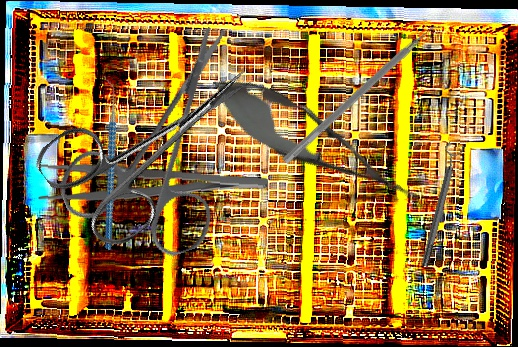Chopper: (45, 75, 170, 251)
Dressing Forceps: (37, 160, 269, 213)
Fixation Ring: (414, 141, 466, 269)
Iris Scissors: (25, 23, 290, 285), (29, 23, 284, 259)
Micro Scissor: (197, 58, 433, 226)
Spatula Surgical: (281, 16, 447, 172)
